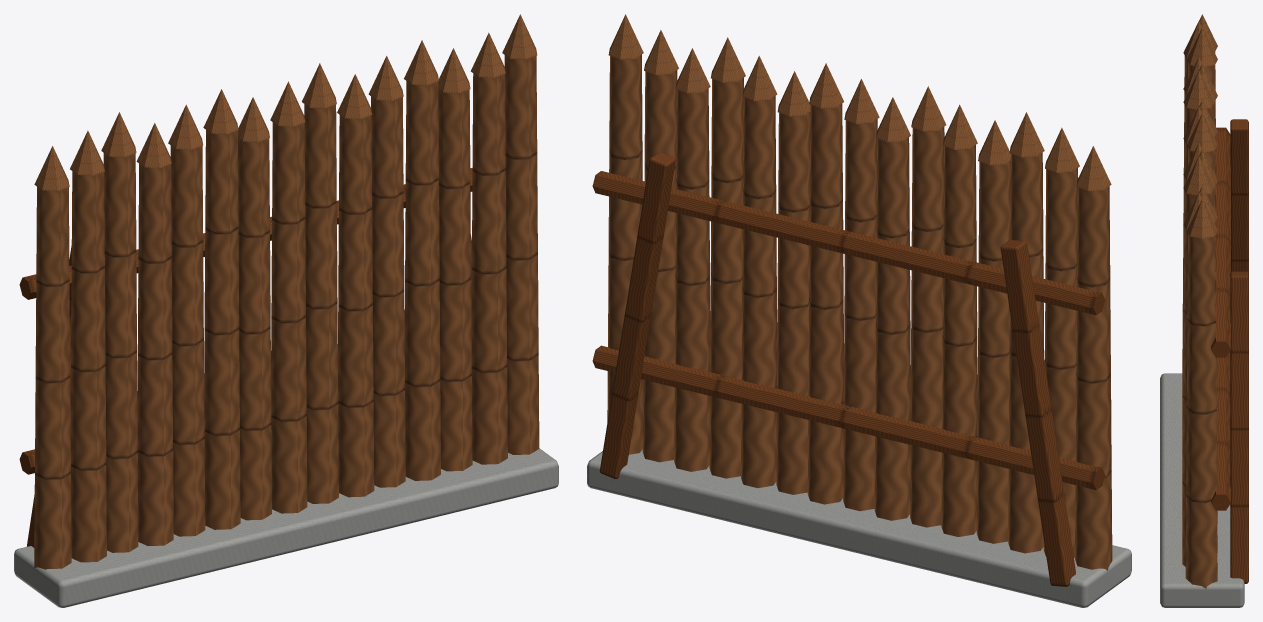
Rendered from viking-age-longhouse-and-longship-palisade-section-6d8a9d29__30180.glb.
3 views of the same model, side by side, from view 1: azimuth 30°, elevation 25°; view 2: azimuth 150°, elevation 25°; view 3: azimuth 270°, elevation 25° (orthographic). The views are drawn at different scales.
Visible parts, largest first — view 1: palisade-section; view 2: palisade-section; view 3: palisade-section.
Boxes of the visible parts, bbox=[...] form: palisade-section: bbox=[14, 14, 558, 607]; palisade-section: bbox=[587, 14, 1131, 607]; palisade-section: bbox=[1160, 14, 1248, 607].
Bounding box in the file's own units: 3 × 2.64 × 0.5249.
Materials: 3 (3 with a texture image).
